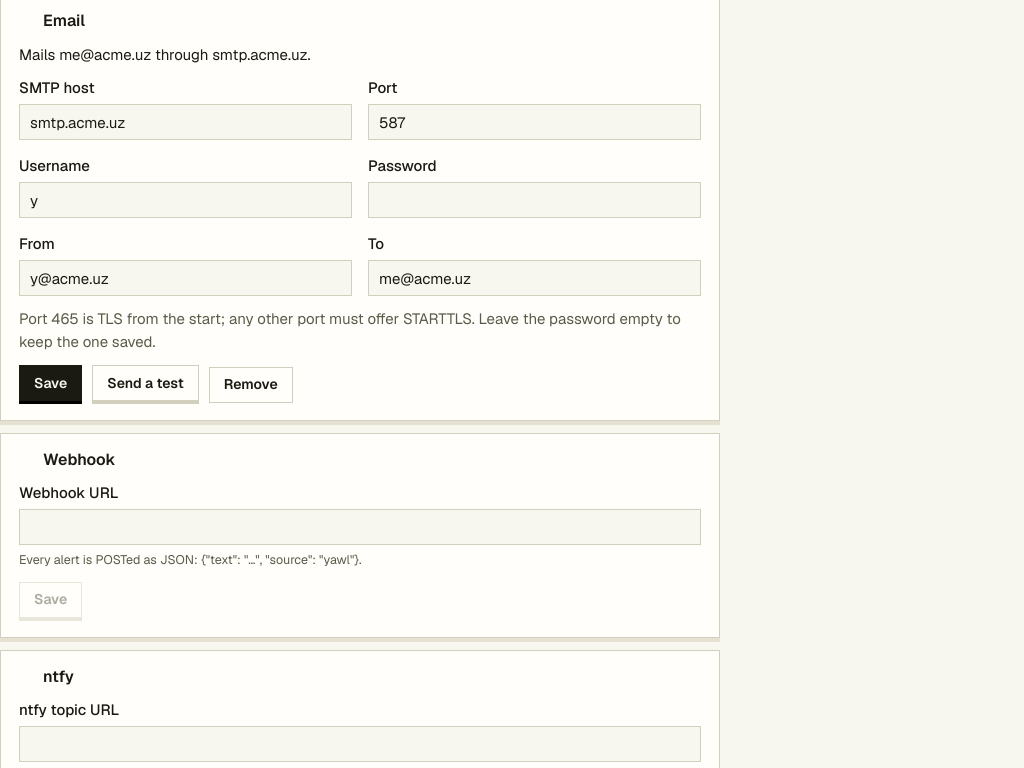
Test: Notifications › asks before it removes email
Later steps or results of the test are not shown.
(page scrolled)
Click the button with aria-label "Remove email" at coordinates (251, 385), box [209, 367, 293, 403]
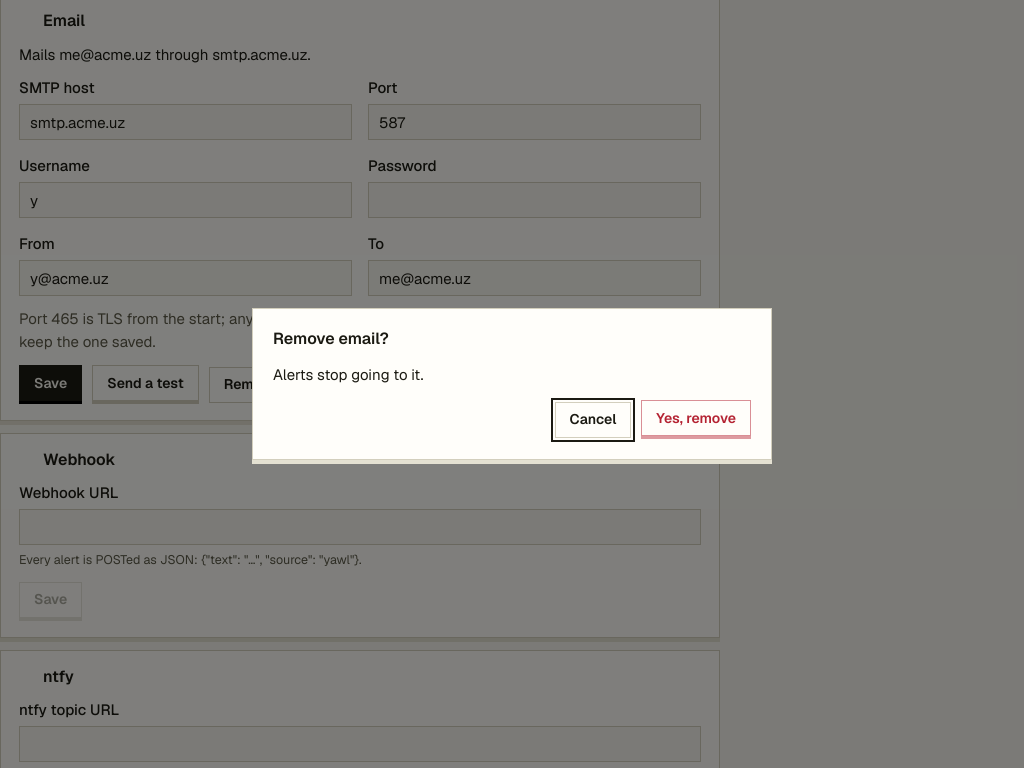
Expected: the heading "Remove email?" is shown, [273, 328, 389, 349]
